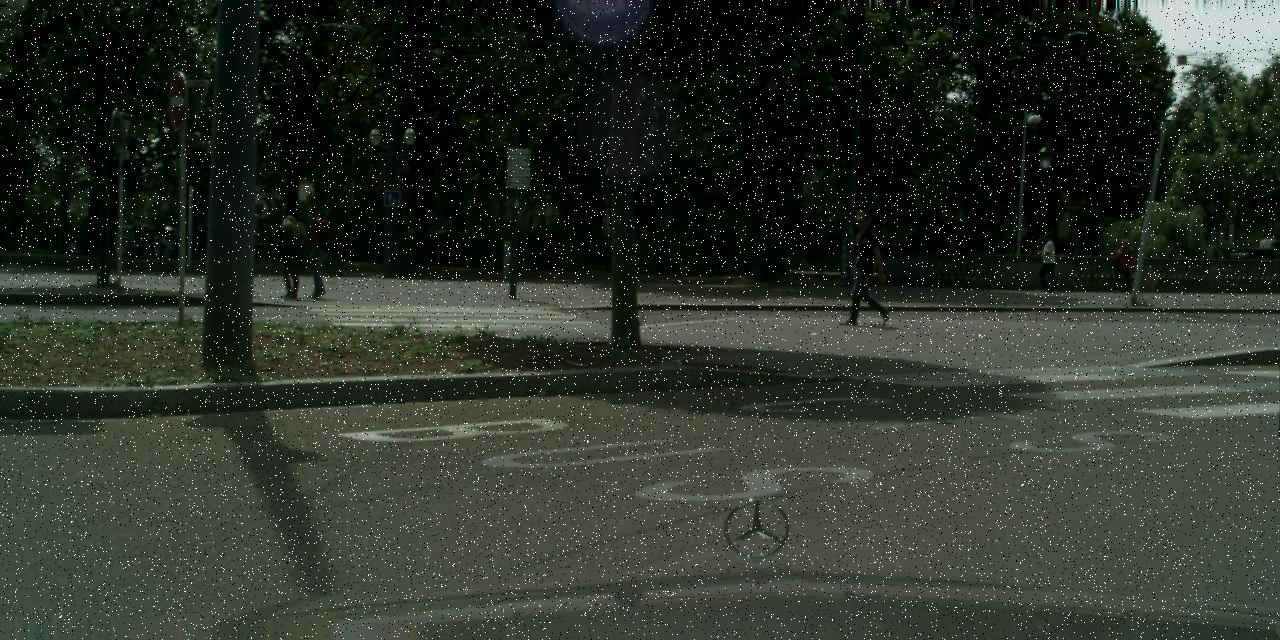ped: (840, 212, 886, 325), (296, 206, 334, 298), (274, 216, 306, 295), (274, 220, 305, 298), (1035, 232, 1059, 290), (1112, 239, 1133, 291), (169, 222, 183, 256), (132, 225, 144, 258), (127, 227, 139, 257), (140, 227, 150, 255)
